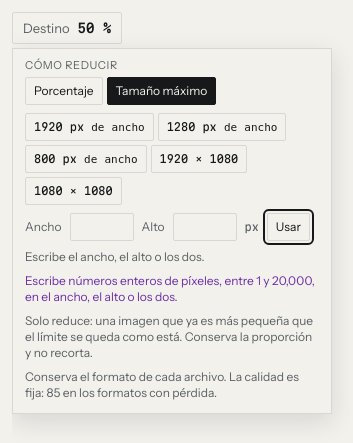
it: the resize picker › takes a maximum size by width, by height or by both
Earlier steps of the test are not shown.
Expected: the message shows "enteros de píxeles", [25,273,315,304]
Step 1. Type "400" into the field labelled "Ancho" → [102, 227], box [70,213,134,241]
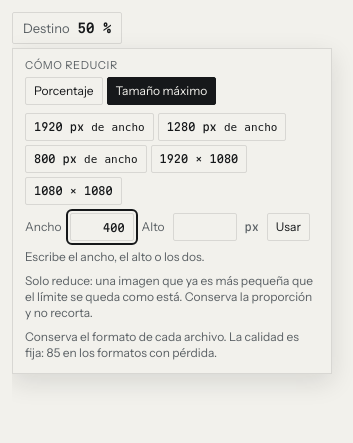
Step 2. Click the button "Usar" → [288, 227], box [267,213,310,241]
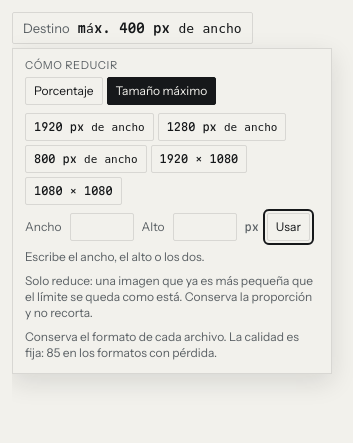
Now the button "Destino máx. 400 px de ancho" is shown, box [12,12,253,44]
Step 3. Clear the field labelled "Ancho" → [102, 227], box [70,213,134,241]
Step 4. Type "300" into the field labelled "Alto" → [204, 227], box [172,213,236,241]
Step 5. Click the button "Usar" → [288, 227], box [267,213,310,241]
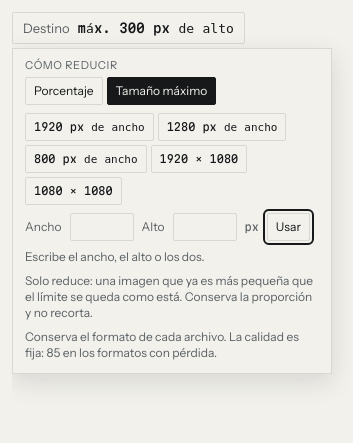
Step 6. Type "800" into the field labelled "Ancho" → [102, 227], box [70,213,134,241]
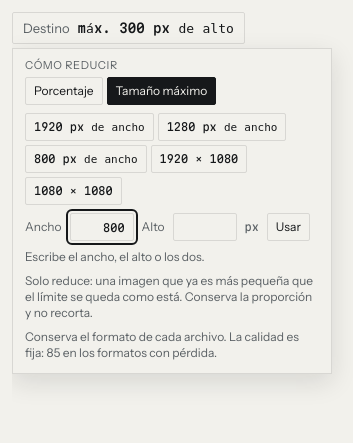
Step 7. Type "30000" into the field labelled "Alto" → [204, 227], box [172,213,236,241]
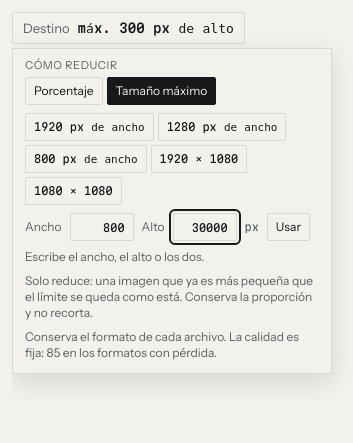
Step 8. Click the button "Usar" → [288, 227], box [267,213,310,241]
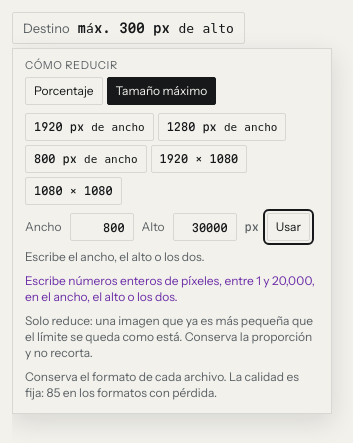
Now the message is shown, box [25,273,319,305]
